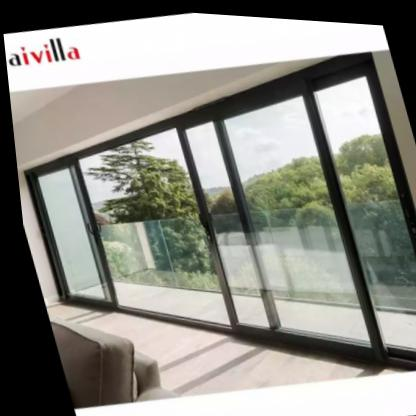Ceramic floor: (39, 303, 392, 398)
Window: (2, 26, 416, 416)
